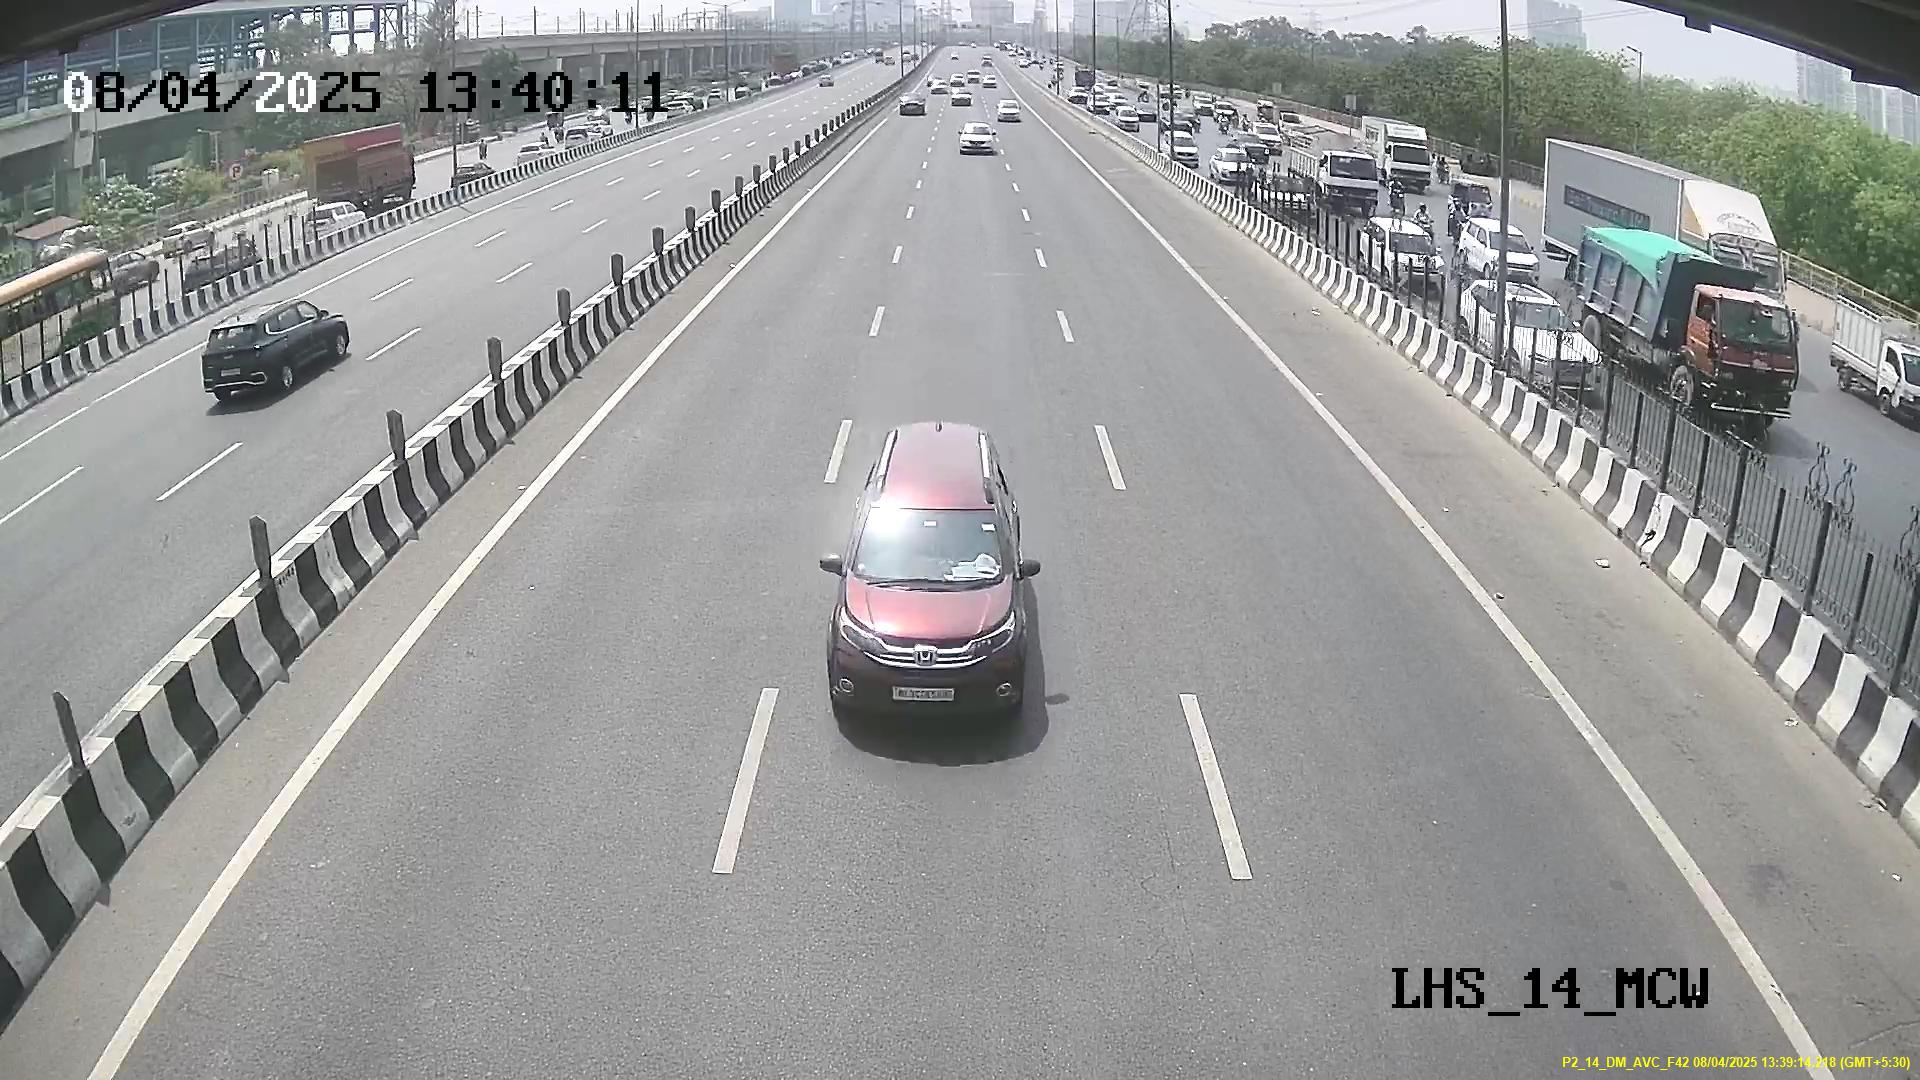car: (819, 479, 1042, 738)
